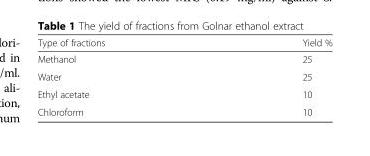table: (36, 36, 331, 117)
table column: (36, 36, 202, 117), (202, 36, 331, 117)
table column header: (36, 36, 331, 50)
table row: (36, 67, 331, 85), (36, 50, 331, 67), (36, 85, 331, 102), (36, 102, 331, 117), (36, 36, 331, 50)
